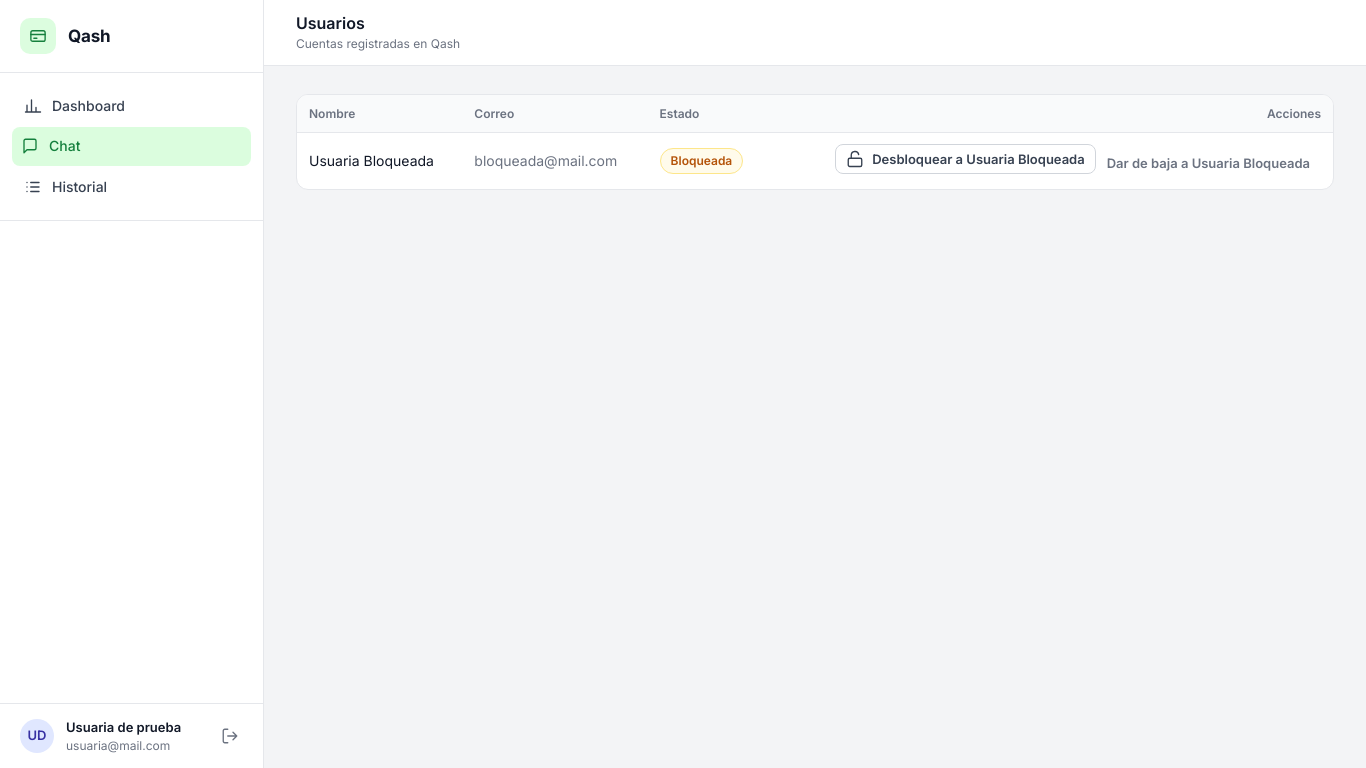
Test: AdminUsuarios › desbloquea a una usuaria bloqueada
Check: the text "Bloqueada" is shown, box [660,148,743,174]
What coordinates should you click on to do the following:
click the button "Desbloquear a Usuaria Bloqueada"
I would click on:
 (965, 159)
Its box is [835,144,1096,174].
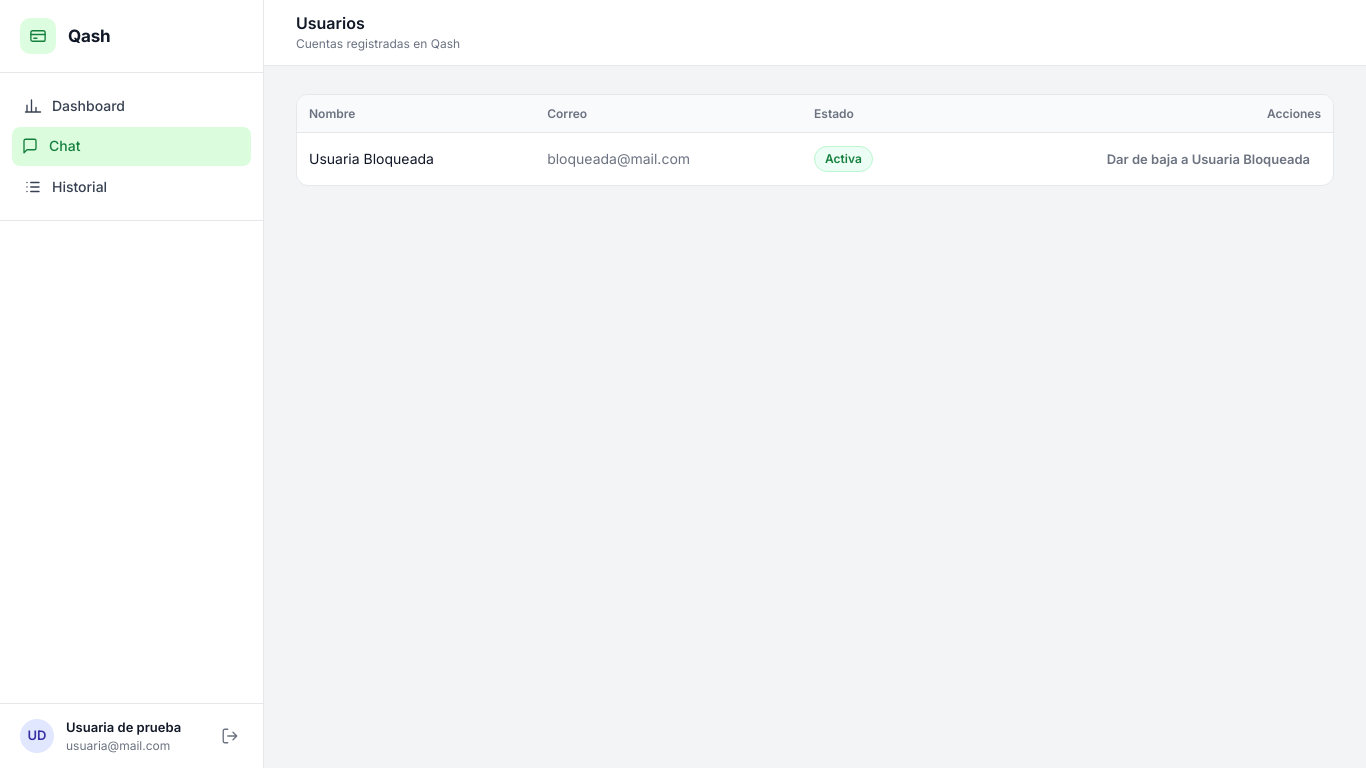
Check: the text "Activa" is shown, box [814,146,873,172]
